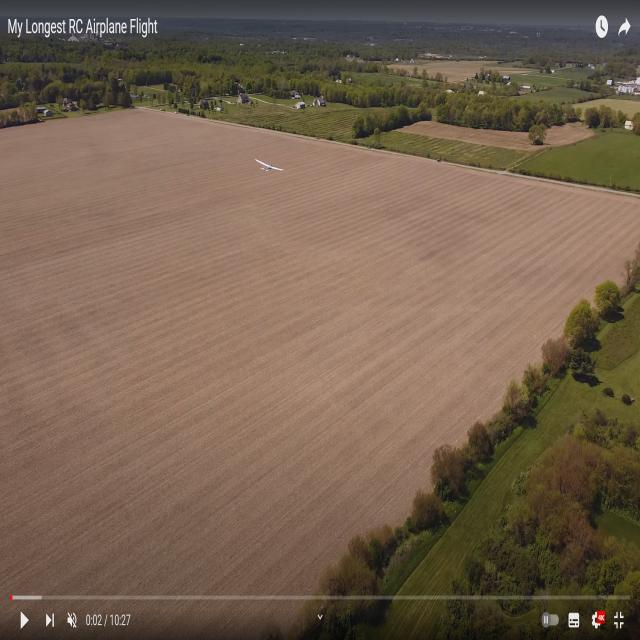iha: (258, 157, 280, 176)
